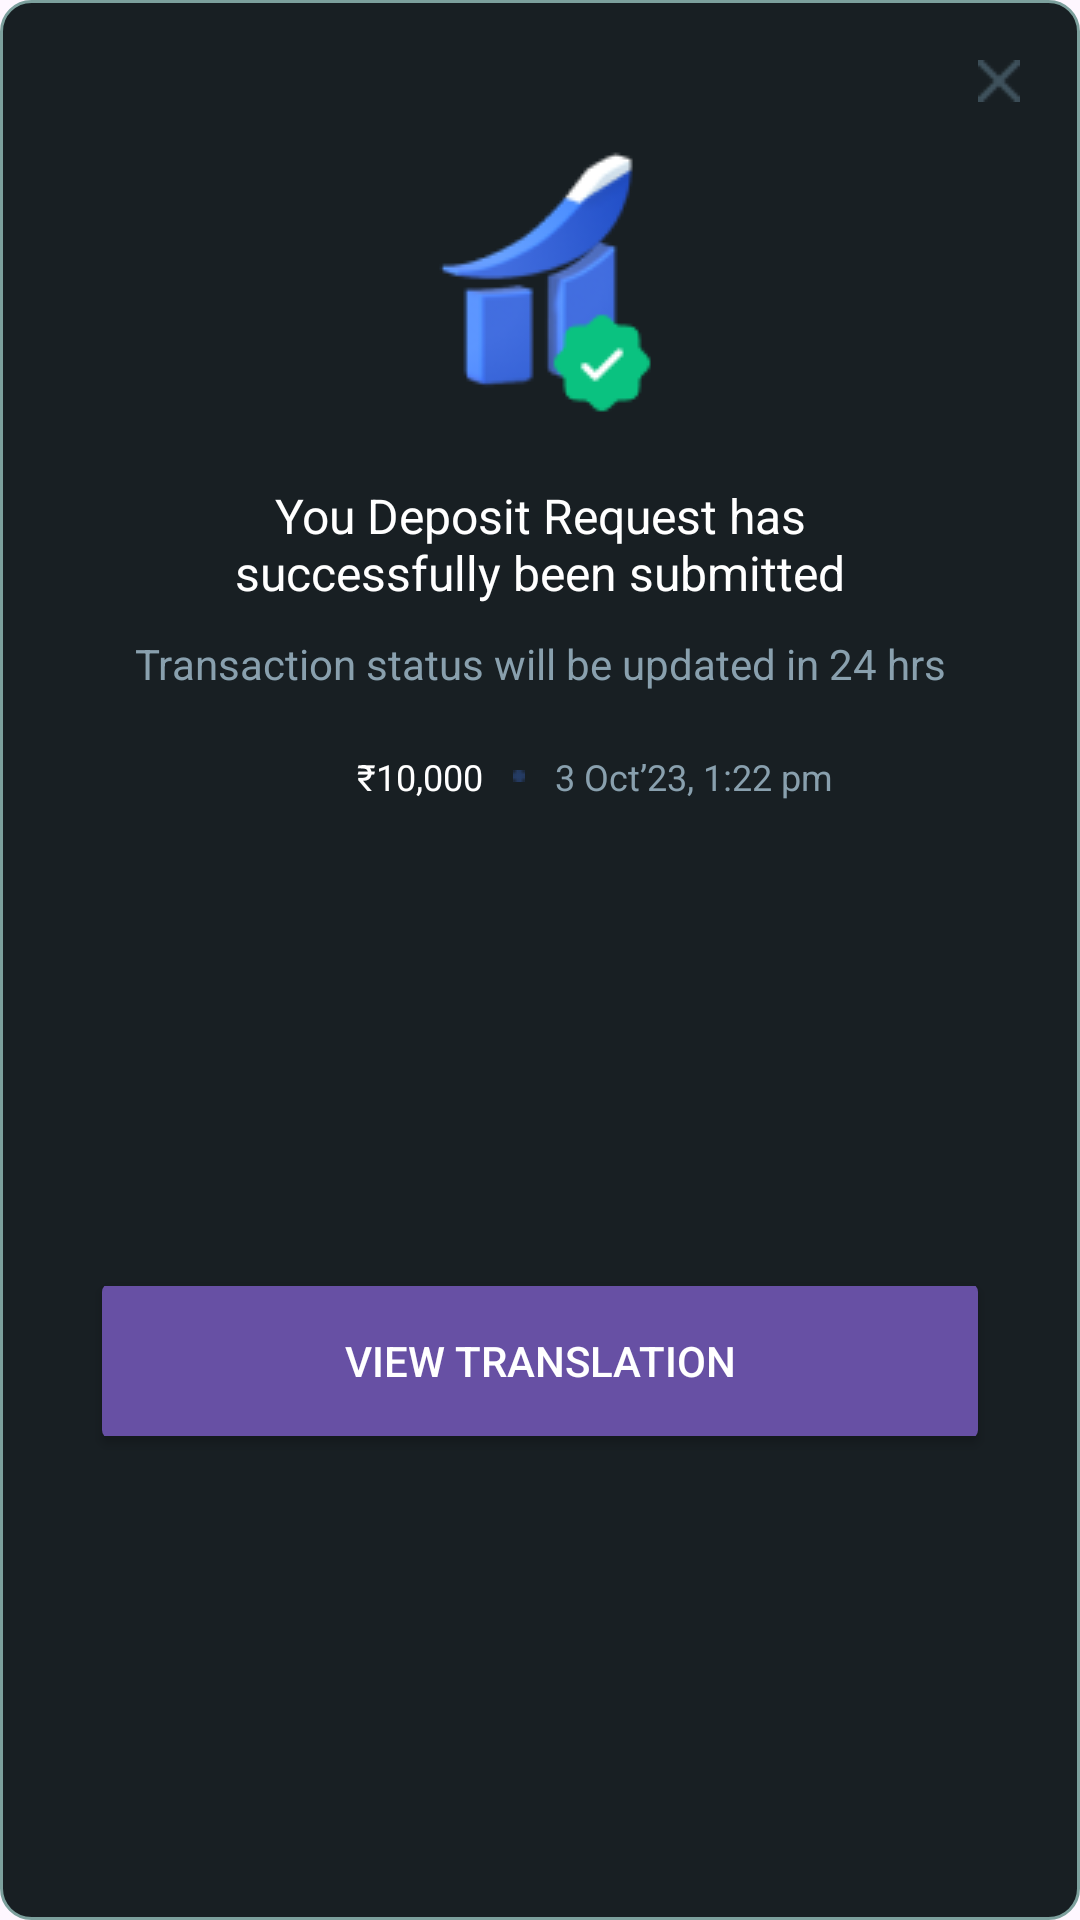

Screen size 1080 × 1920. Icon name, then its box in pixels as (x1, y1, x2, y2):
cross: (978, 60, 1020, 102)
